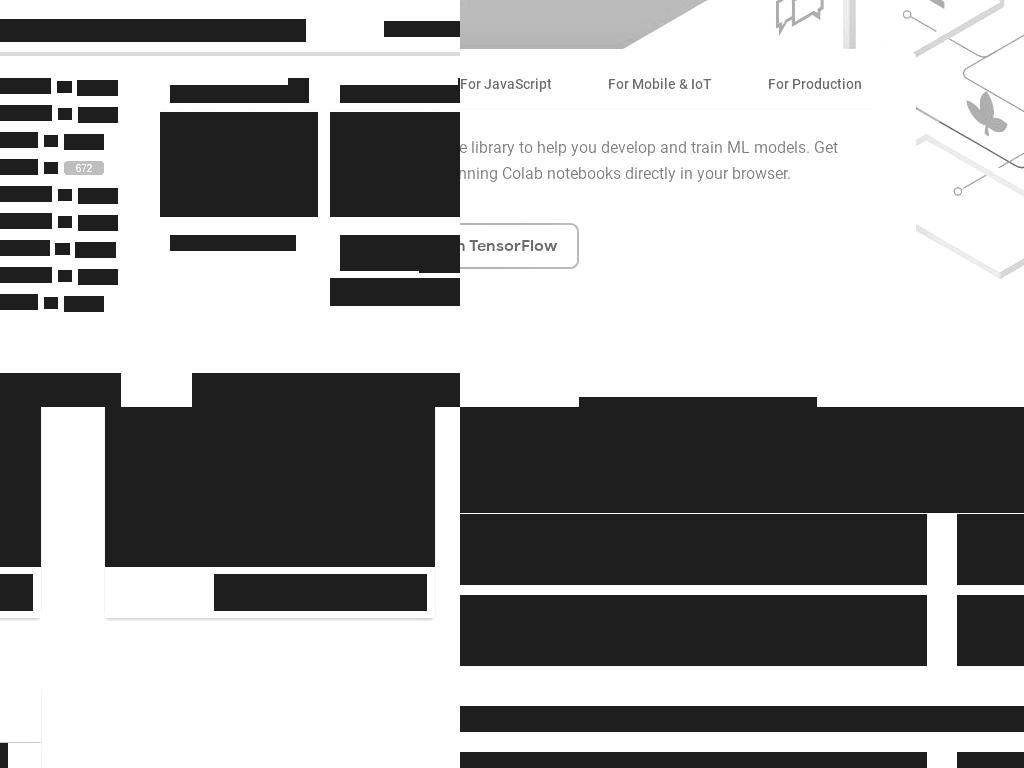button: (105, 407, 435, 567), (460, 433, 927, 504), (460, 514, 927, 585), (460, 595, 927, 666), (214, 574, 427, 611), (460, 407, 927, 423), (384, 21, 460, 37), (77, 80, 118, 96), (75, 242, 116, 258), (419, 257, 460, 273), (78, 107, 118, 123), (64, 134, 104, 150), (64, 161, 104, 177), (78, 188, 118, 204), (78, 215, 118, 231), (78, 269, 118, 285), (64, 296, 104, 312)
heading: (460, 407, 1024, 768), (460, 706, 1024, 732), (0, 19, 306, 42), (170, 85, 308, 103), (579, 397, 817, 407), (340, 85, 460, 103)
image: (460, 413, 1024, 513), (160, 112, 318, 217), (330, 112, 460, 217), (288, 78, 309, 103), (57, 81, 72, 93), (55, 243, 70, 255), (58, 108, 72, 120), (44, 135, 58, 147), (44, 162, 58, 174), (58, 189, 72, 201), (58, 216, 72, 228), (58, 270, 72, 282), (44, 297, 58, 309)
link: (340, 235, 460, 271), (121, 471, 362, 488), (230, 584, 411, 601), (170, 235, 296, 251), (0, 105, 52, 121), (0, 186, 52, 202), (0, 213, 52, 229), (0, 267, 52, 283), (0, 78, 51, 94), (0, 240, 50, 256), (0, 132, 38, 148), (0, 159, 38, 175), (0, 294, 38, 310)
text: (121, 471, 411, 542), (466, 753, 906, 768), (521, 460, 744, 486), (523, 541, 712, 567), (519, 622, 674, 648), (330, 278, 460, 292), (330, 292, 460, 306)
